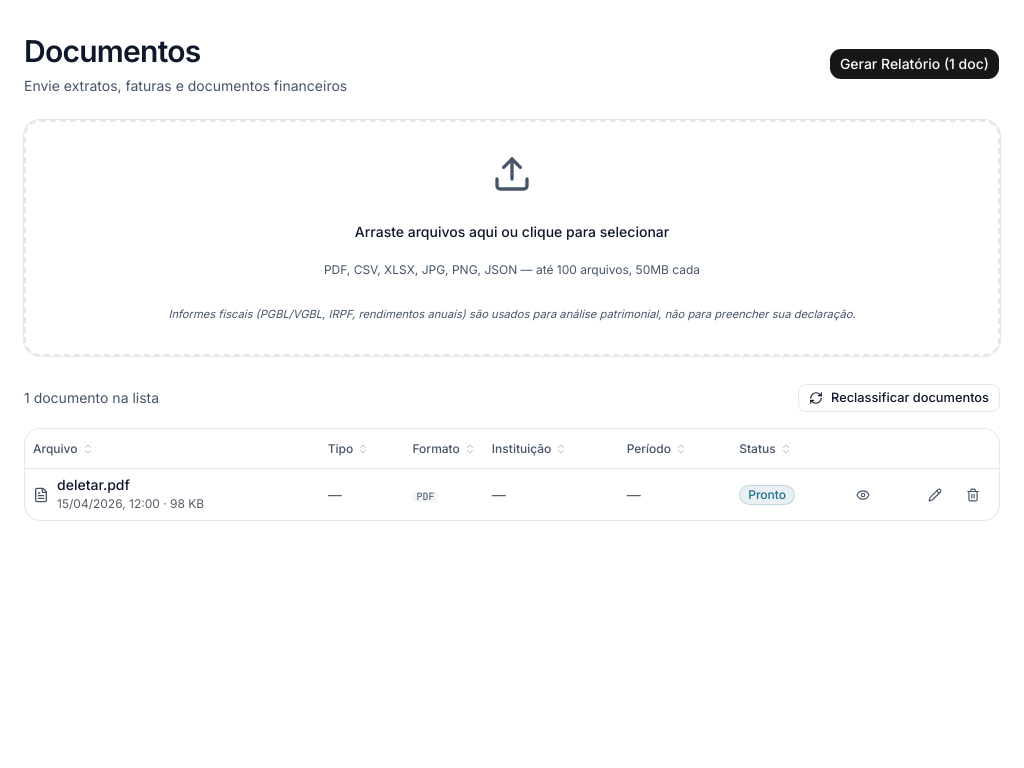
Test: DocumentsPage › delete: abre confirm dialog e remove ao confirmar
expect the button "deletar.pdf" is shown: met, box [57,478,312,494]
Click the button named "Remover deletar.pdf": [973, 495] box [955,481,991,509]
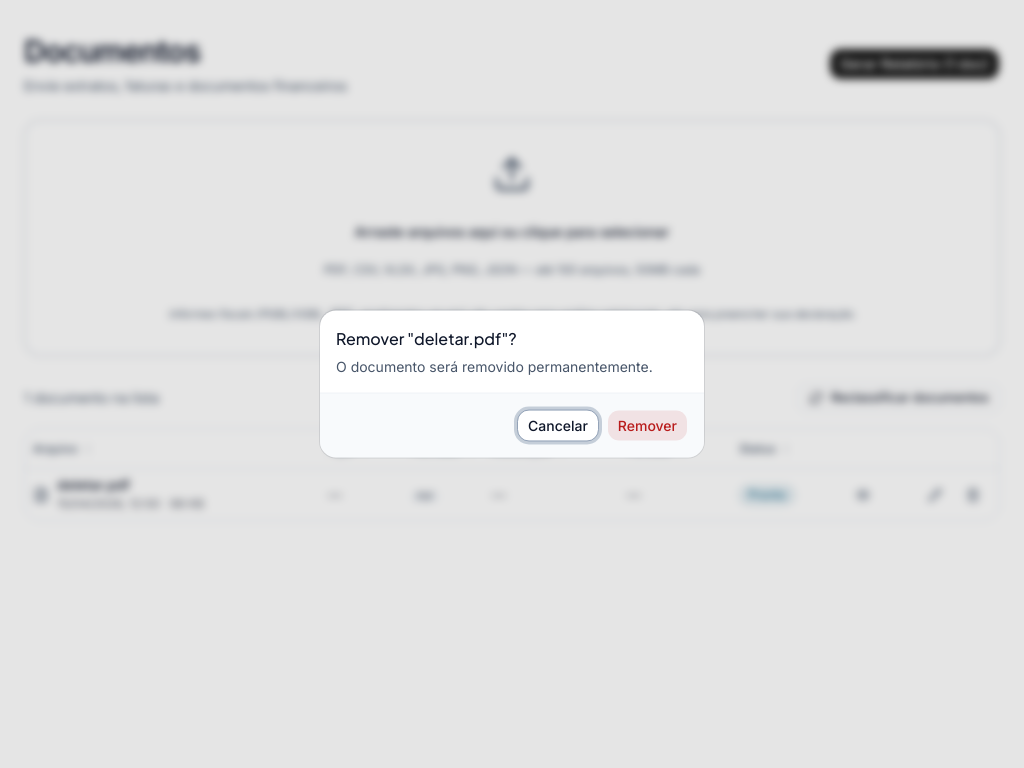
expect the heading "Remover \"deletar.pdf\"?" is shown: met, box [336,326,517,350]
Click the button "Remover": [647, 426] box [607,410,688,442]
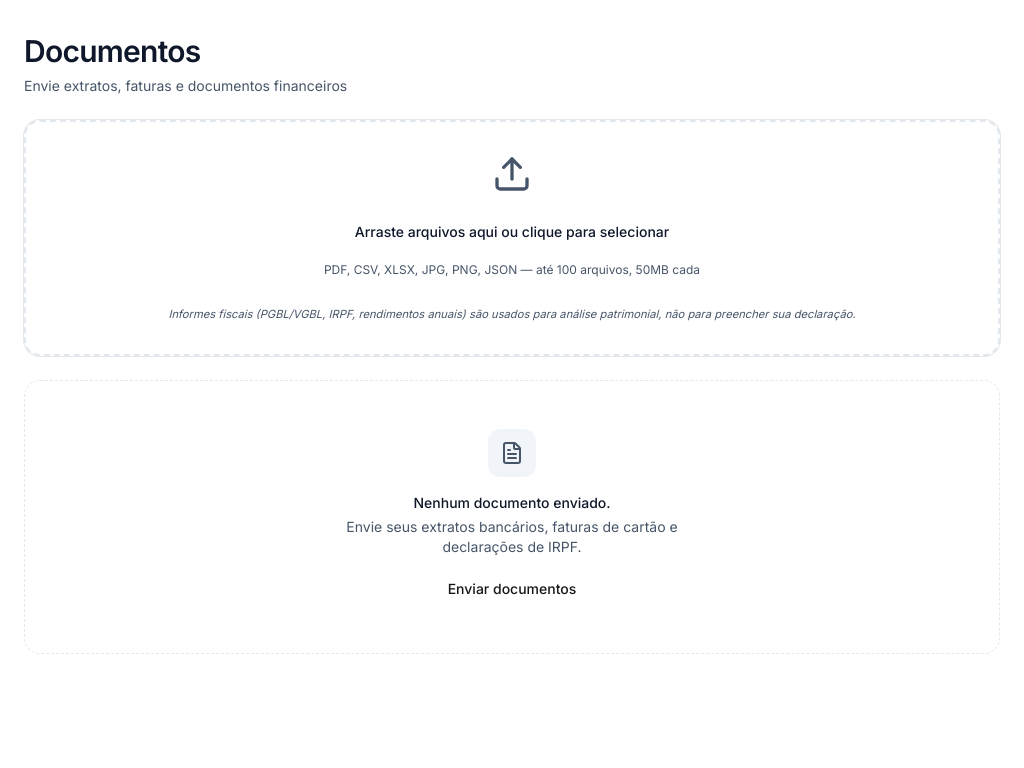
expect the button "deletar.pdf" is gone: met
